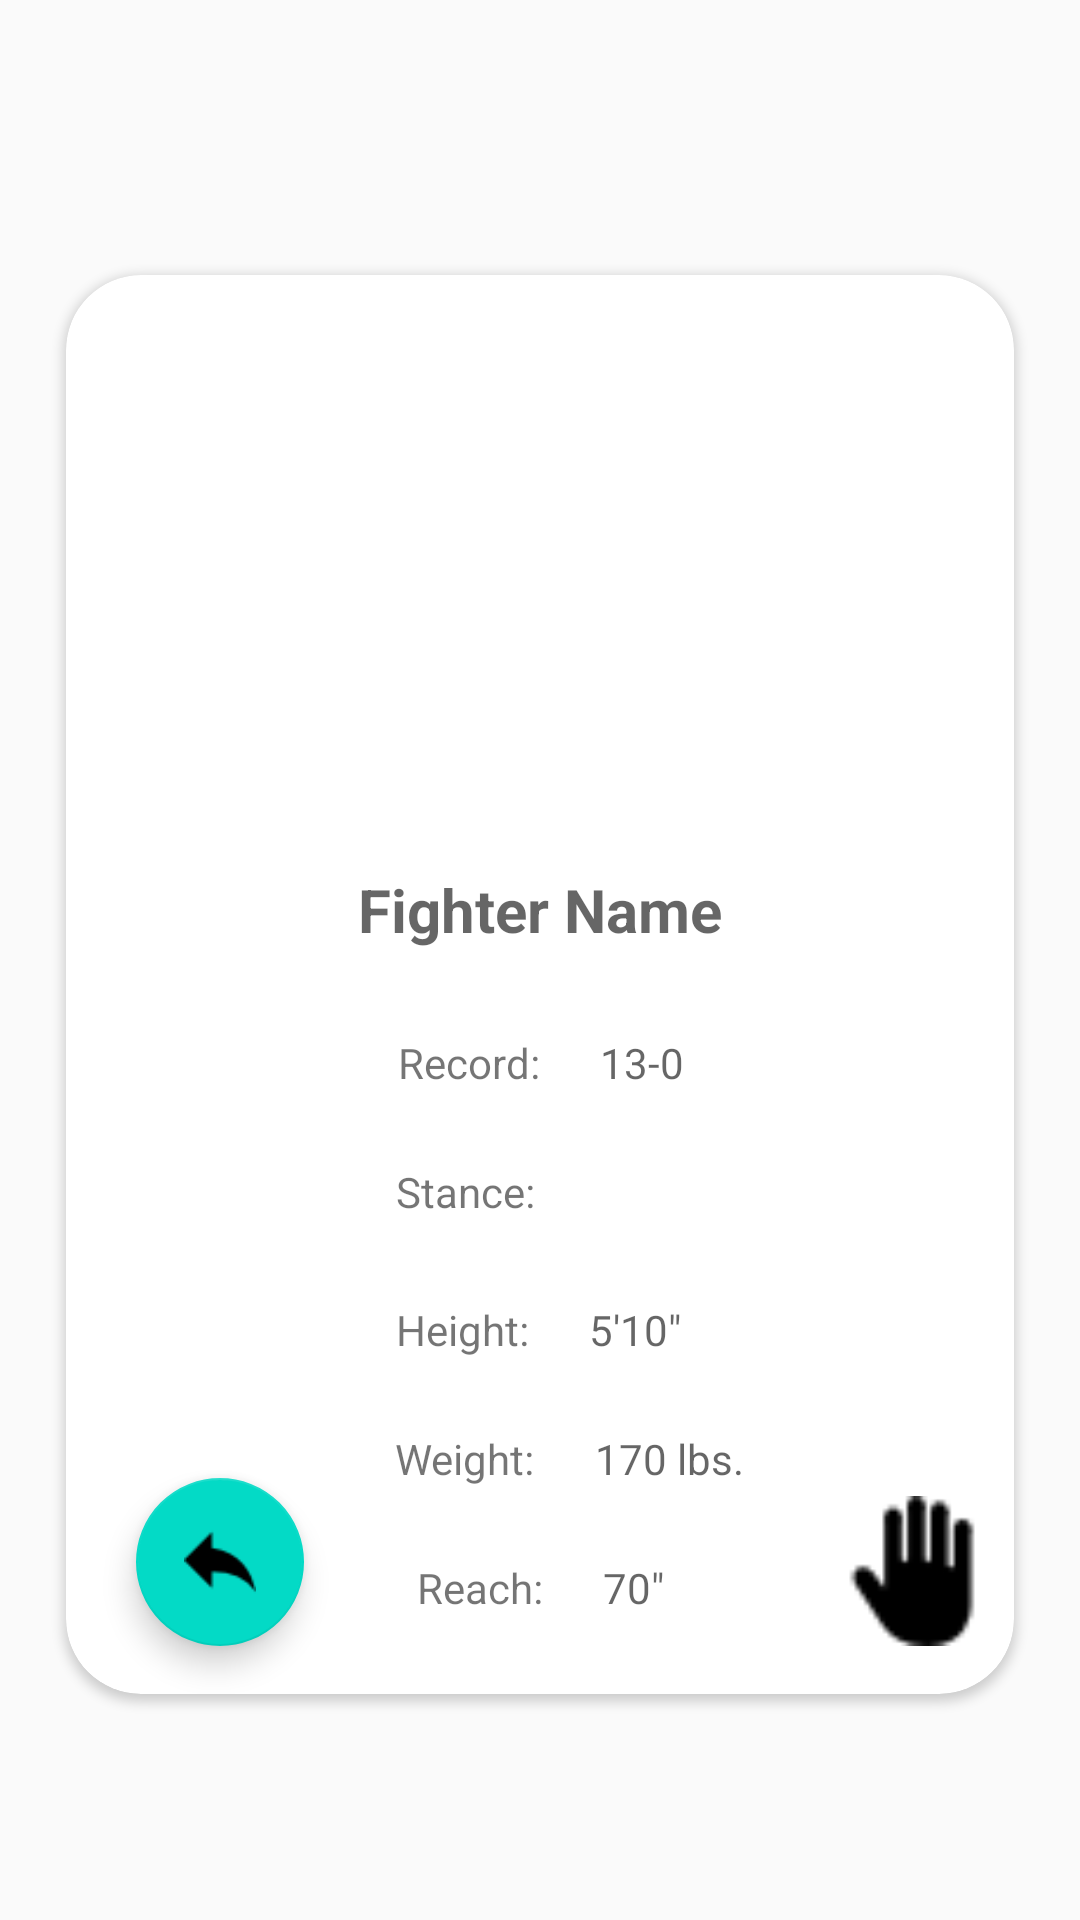

Icon bounding boxes for this 1080w x 1920h phone screenshot, format box(x1, y1, x2, y2):
back arrow: box(136, 1478, 304, 1646)
hand flip: box(850, 1496, 975, 1646)
